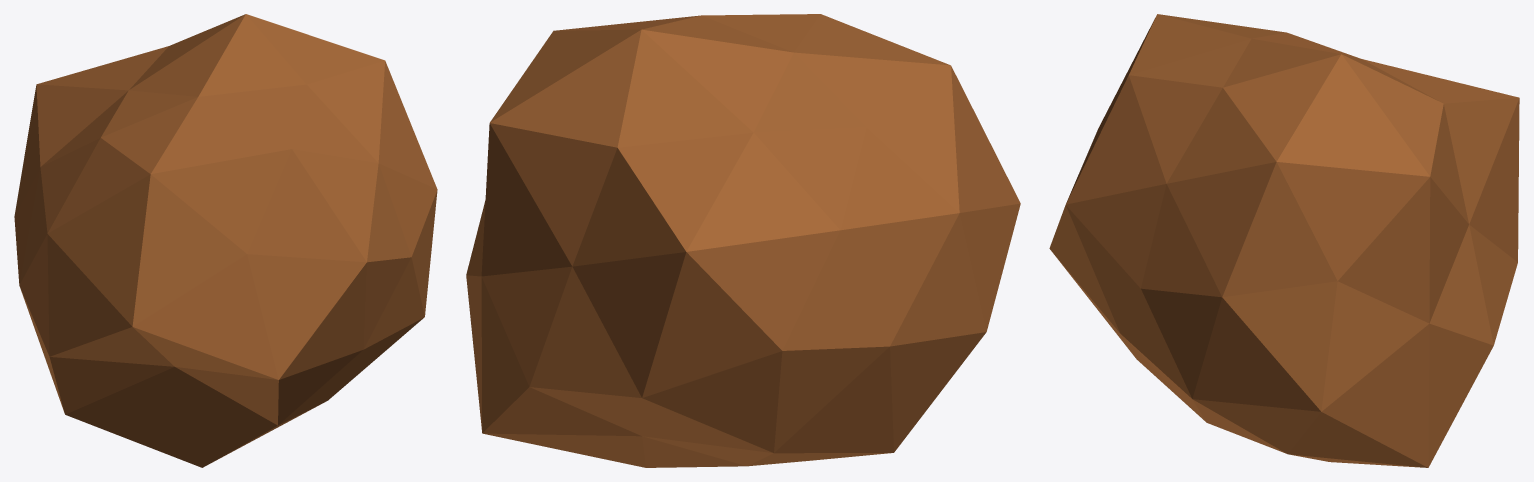
File: boulder2.gltf
3 views of the same model, side by side, from view 1: azimuth 30°, elevation 25°; view 2: azimuth 150°, elevation 25°; view 3: azimuth 270°, elevation 25° (orthographic). The views are drawn at different scales.
Visible parts, largest first — view 1: Icosphere.002; view 2: Icosphere.002; view 3: Icosphere.002.
Part boxes in pixels (<box>): Icosphere.002: <box>14,14,437,467</box>; Icosphere.002: <box>466,14,1020,467</box>; Icosphere.002: <box>1049,14,1519,467</box>.
Size of the model in its own units: 8.76 by 7.96 by 8.26.
